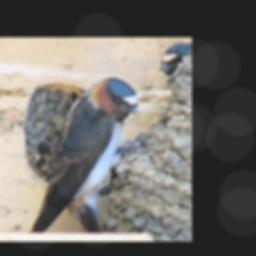Swallow: (24, 76, 139, 231)
